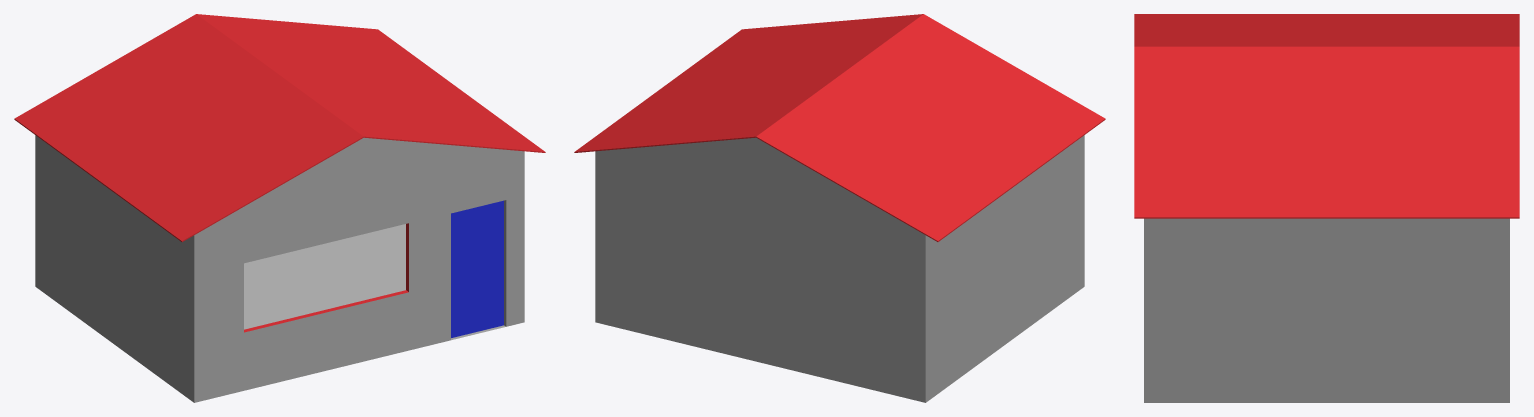
File: refeitorio 1.fbx
3 views of the same model, side by side, from view 1: azimuth 30°, elevation 25°; view 2: azimuth 150°, elevation 25°; view 3: azimuth 270°, elevation 25° (orthographic). The views are drawn at different scales.
Visible parts, largest first — view 1: Refeitorio; view 2: Refeitorio; view 3: Refeitorio.
Boxes of the visible parts, x1,y1,x2,y2 form: Refeitorio: [14, 14, 545, 402]; Refeitorio: [574, 14, 1105, 402]; Refeitorio: [1134, 14, 1519, 402].
Size of the model in its own units: 6.6 by 3.98 by 5.27.
